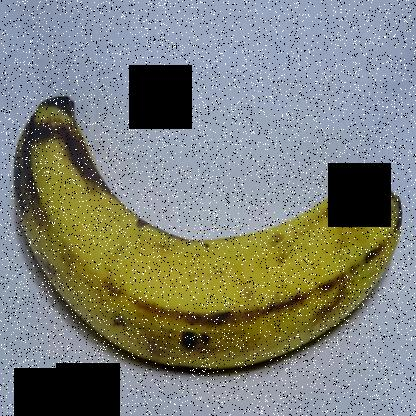ripe: (5, 81, 413, 383)
